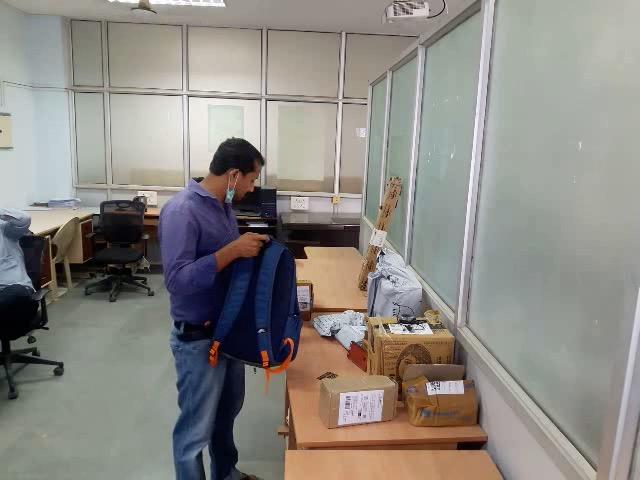shoplifting: (123, 214, 432, 390)
